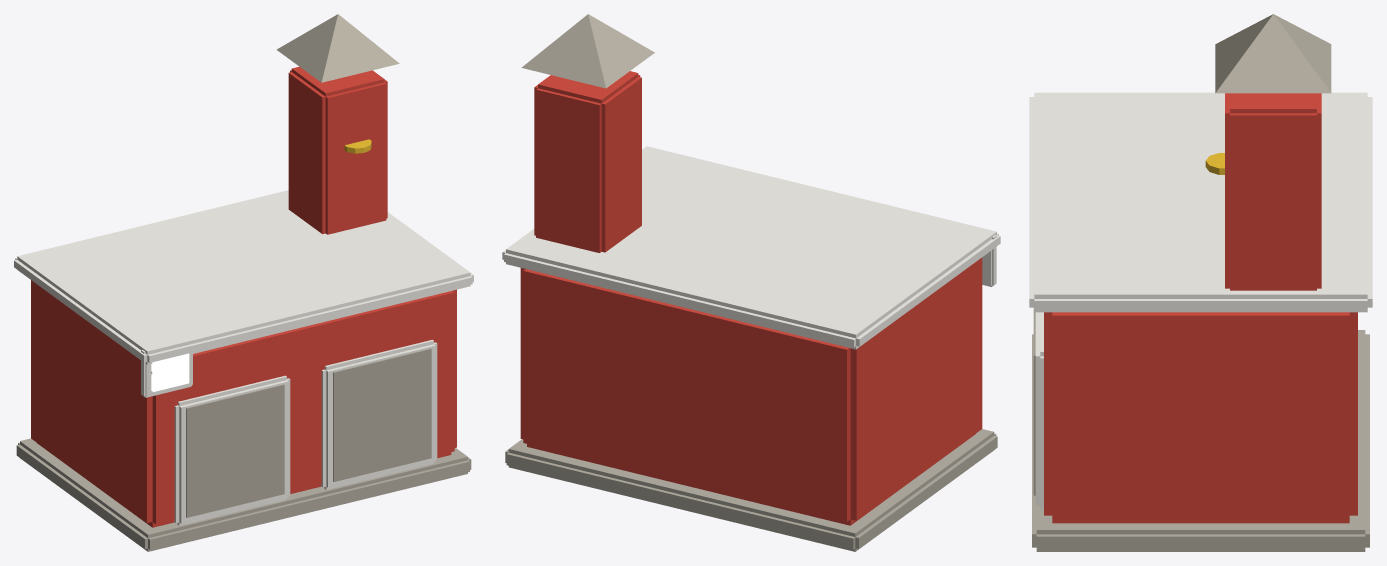
Rendered from firestation.glb.
3 renders of one model, left to right at view 1: azimuth 30°, elevation 25°; view 2: azimuth 150°, elevation 25°; view 3: azimuth 270°, elevation 25°, orthographic. The views are drawn at different scales.
Parts seen in each view (by area): view 1: firestation; view 2: firestation; view 3: firestation.
Part boxes in pixels (x1,y1,x2,y2): firestation: (14,14,473,551); firestation: (502,14,1000,551); firestation: (1029,14,1372,551).
Size of the model in its own units: 2.02 by 2.35 by 1.42.
